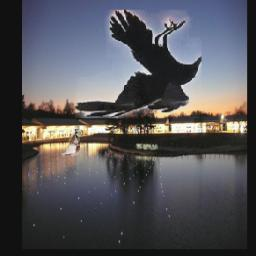Crow: (75, 11, 201, 119)
Cuckoo: (61, 125, 80, 156)
